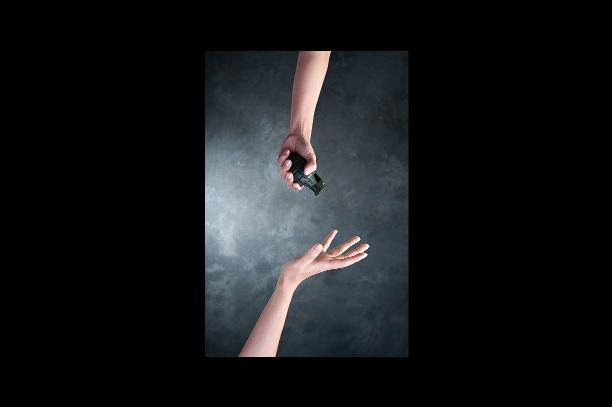Grenade: (281, 150, 325, 195)
